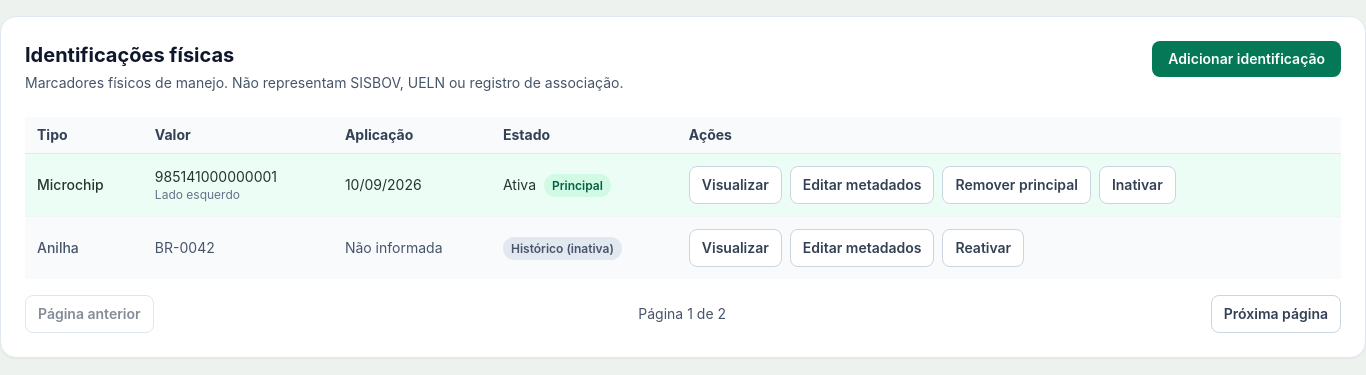
Test: AnimalIdentificationsPanel › distinguishes principal, active and historical rows and paginates history
Expected: the text "Principal" is shown, [544,174,611,197]
Expected: the button "Remover principal" is enabled, [942,166,1091,204]
Click the button "Próxima página": [1276, 314] box [1211,295,1341,333]
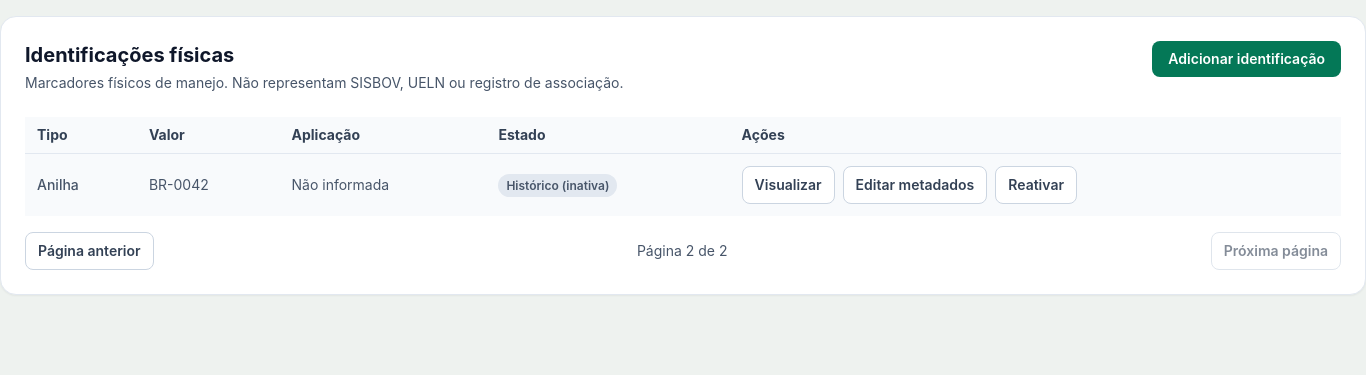
Expected: the text "Histórico (inativa)" is shown, [498,174,617,197]
Now the text "Página 2 de 2" is shown, box [637,241,728,261]
Now the text "985141000000001" is gone
